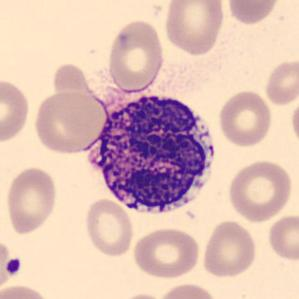Basophil: (82, 86, 224, 222)
Platelets: (3, 256, 22, 276)
RBC: (32, 89, 108, 156), (106, 18, 166, 93), (226, 158, 294, 224), (3, 164, 59, 236), (130, 225, 202, 280), (200, 218, 259, 279), (162, 0, 226, 56), (217, 88, 273, 148), (82, 197, 136, 258), (0, 76, 32, 145), (262, 57, 298, 107), (266, 212, 298, 263), (225, 0, 281, 26), (155, 281, 219, 299), (0, 283, 51, 299), (288, 96, 299, 149), (0, 236, 9, 287), (114, 291, 167, 299)
